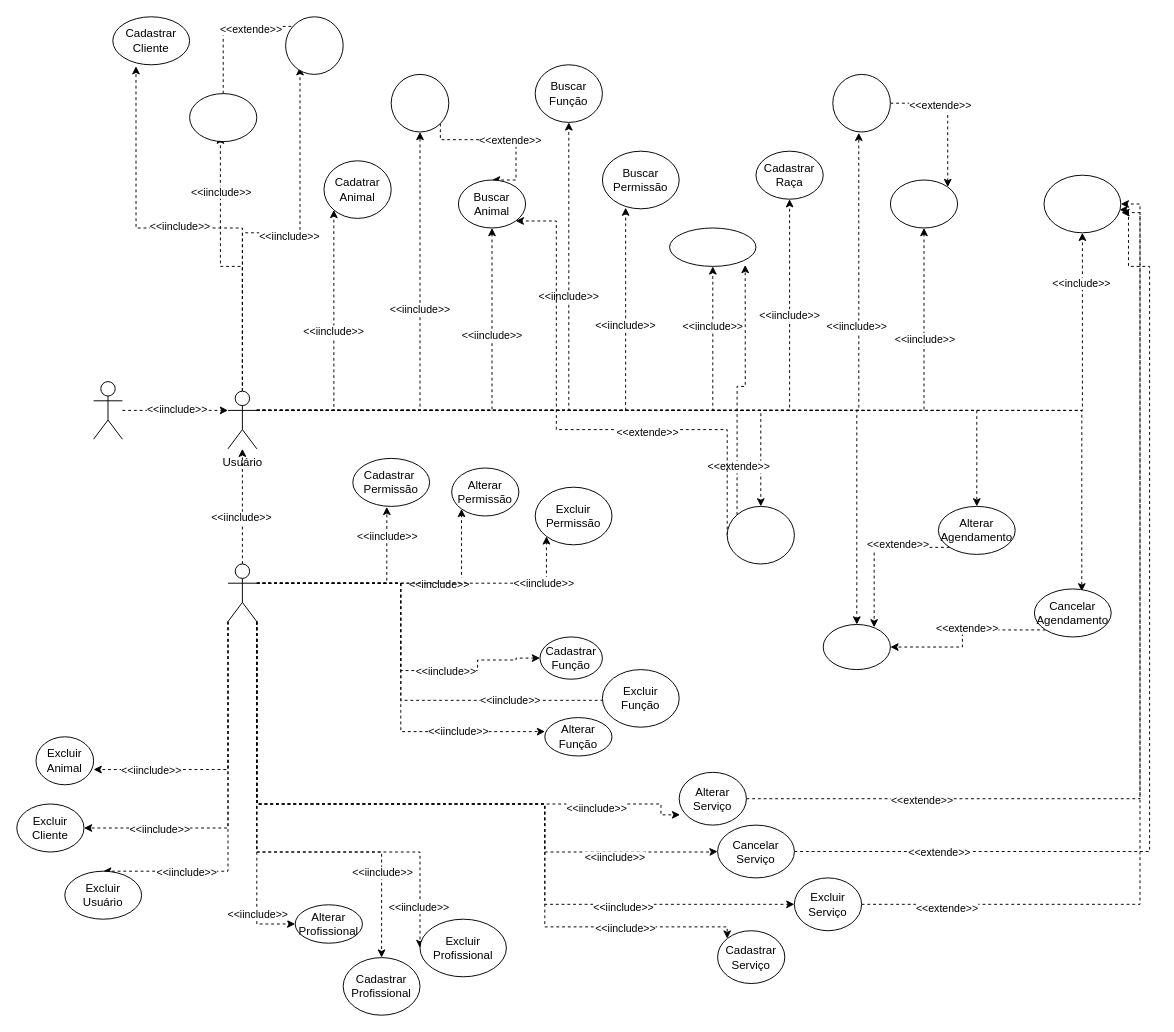
This 1174x1032 diagram has some shape labels left out. Each missing label, with the centre of its shape:
Alterar Animal: point (419, 102)
Alterar Cliente: point (223, 117)
Alterar Raça: point (861, 102)
Atendente: point (107, 410)
Buscar Agendamento: point (856, 647)
Buscar Cliente: point (314, 45)
Buscar Profissional: point (712, 246)
Buscar Raça: point (923, 203)
Buscar Serviço: point (1082, 203)
Cadastrar Agendamento: point (760, 534)
Gerente: point (242, 592)
